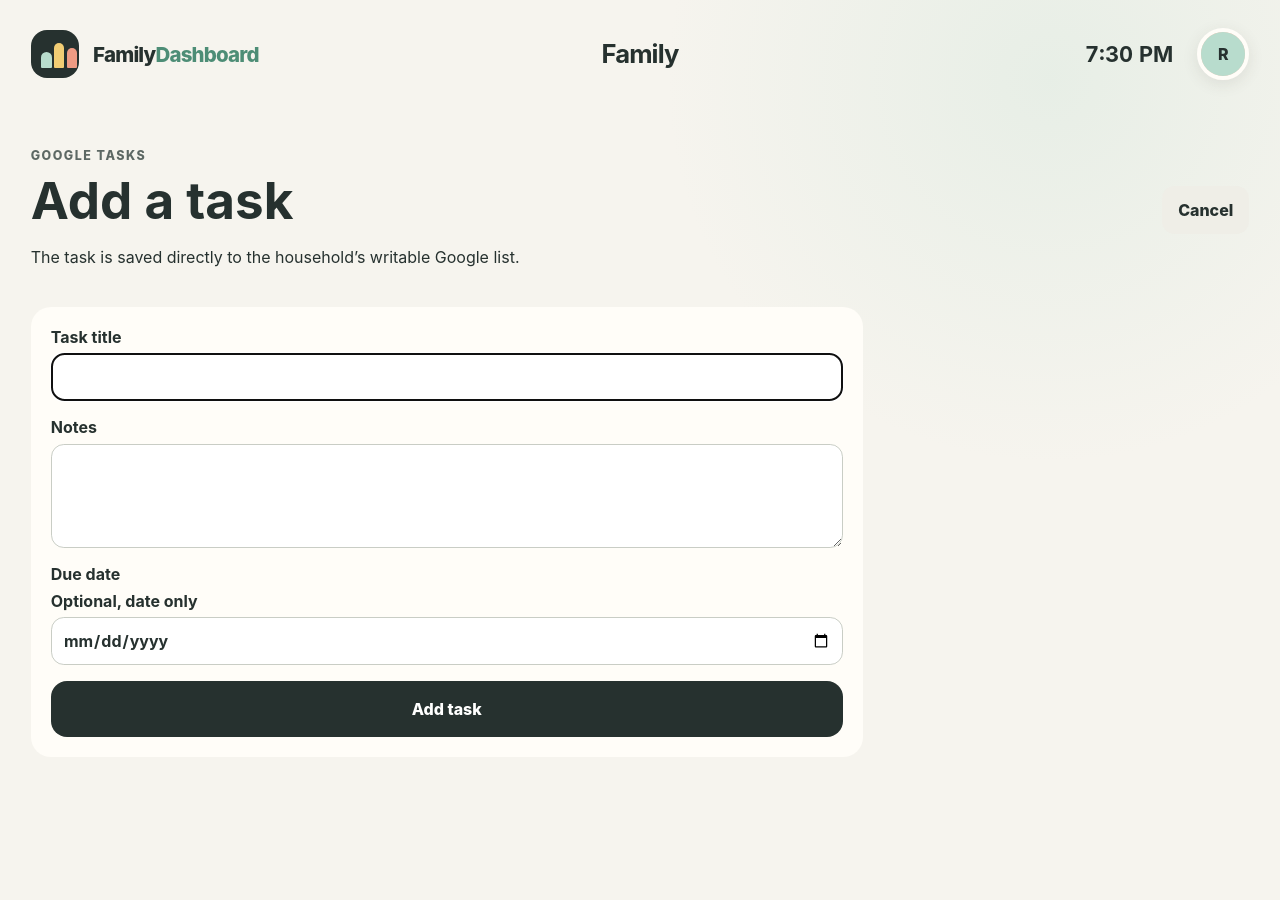
Test: Google Tasks › creates a shared-display task without loading or submitting member attribution
Type "Shared grocery reminder" into the field labelled "Task title" at (447, 378), box [51,354,843,402]
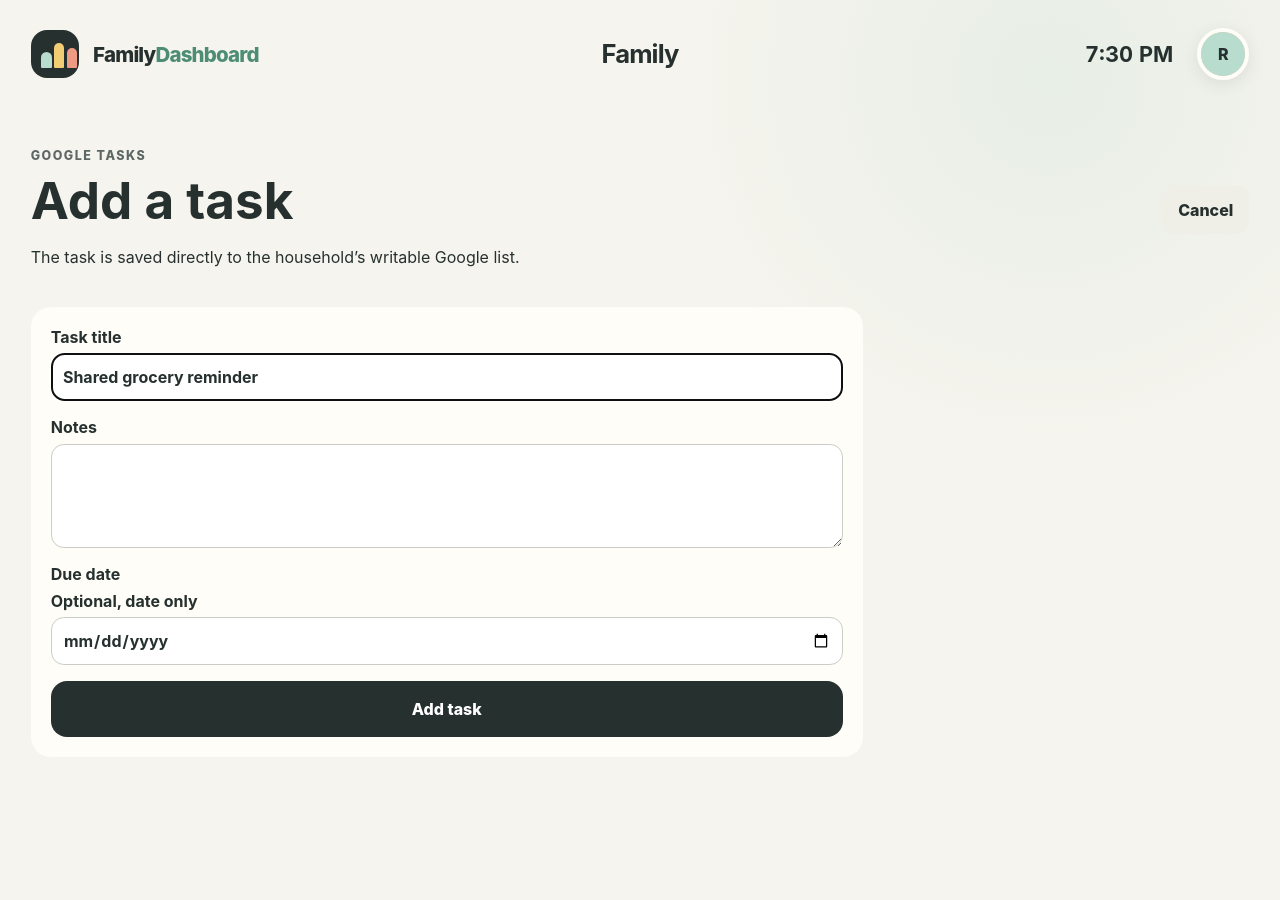
Click the button "Add task" at (447, 709), box [51,681,843,737]
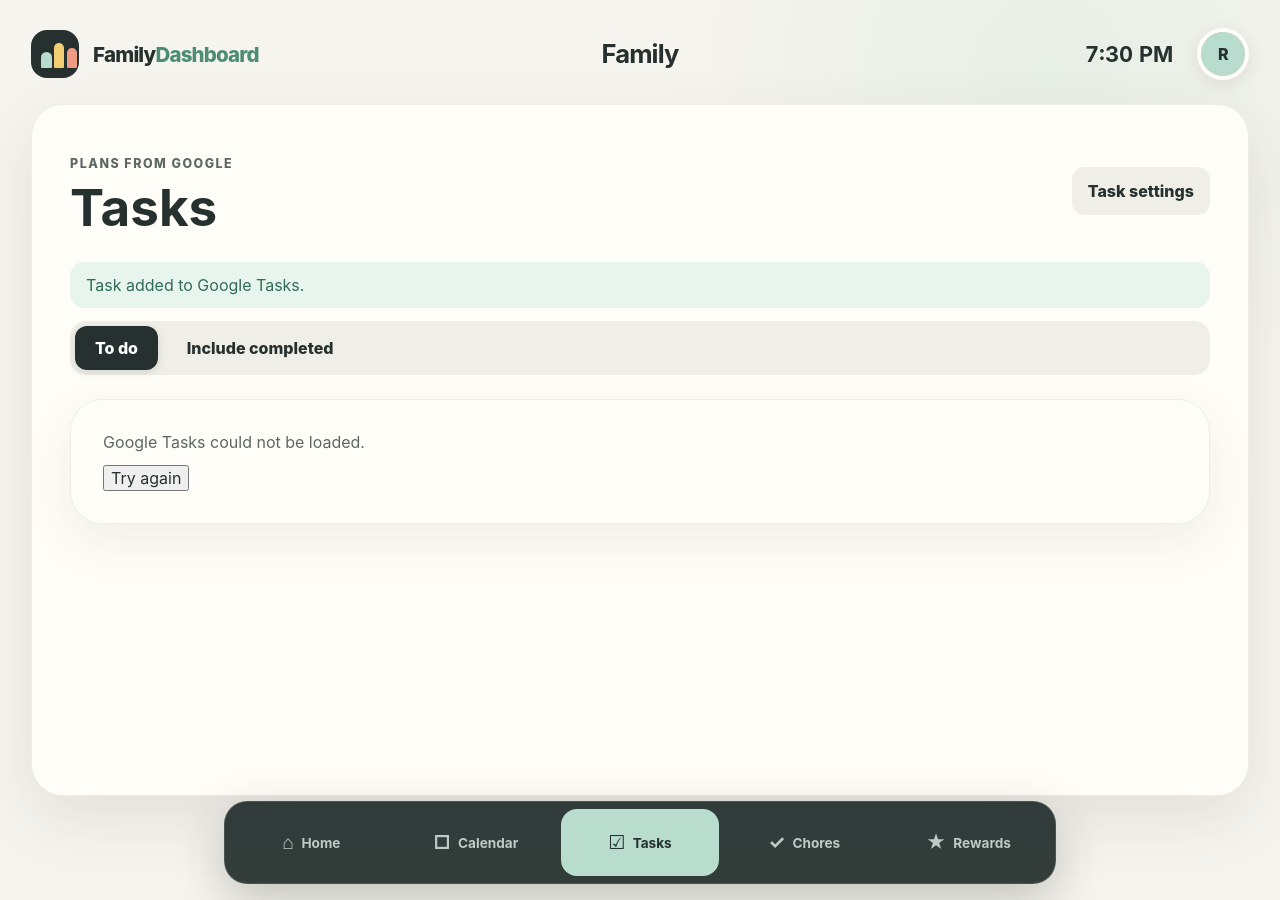
Expected: the text "Task added to Google Tasks." is shown, [70,262,1210,308]
